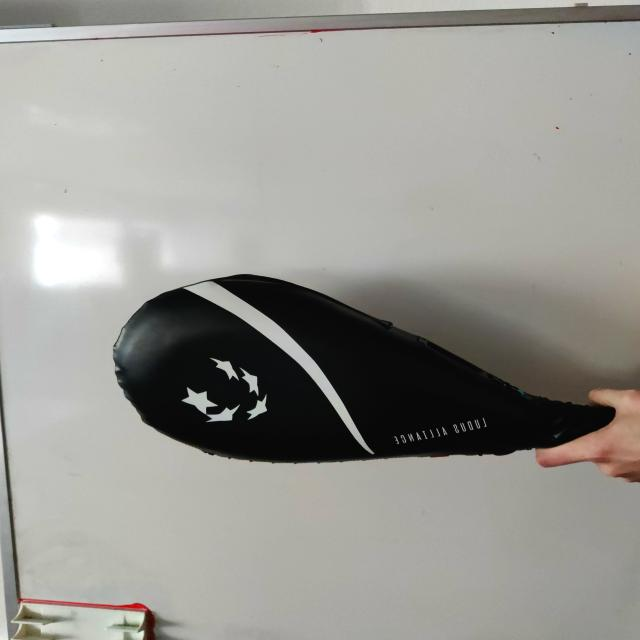paddle: (108, 269, 613, 469)
